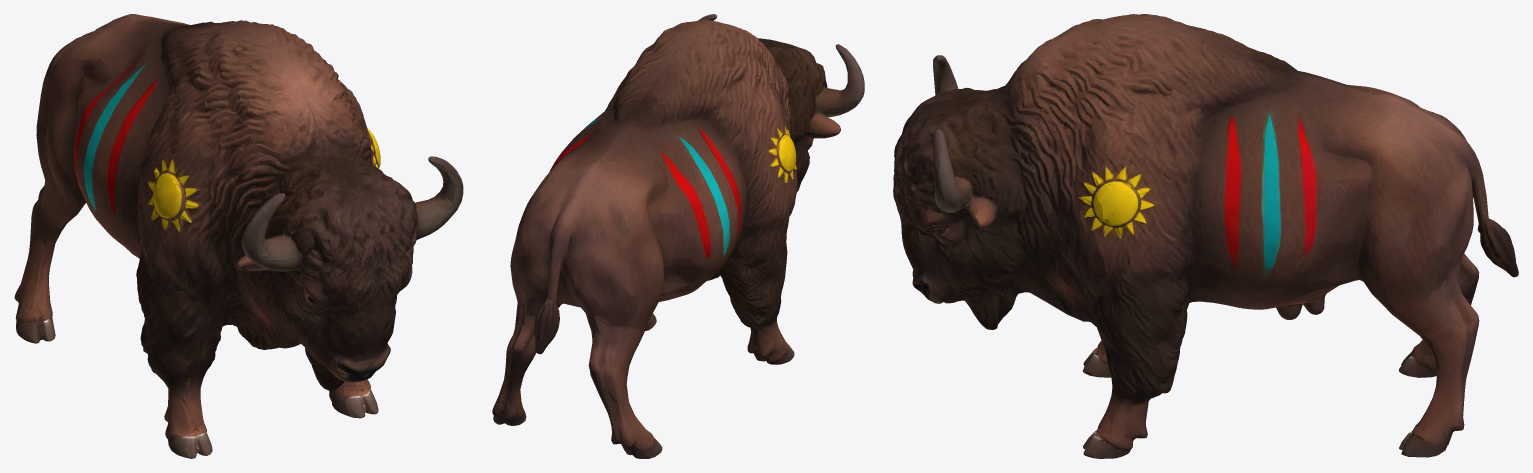
The picture shows the model from 3 angles, left to right: view 1: azimuth 30°, elevation 25°; view 2: azimuth 150°, elevation 25°; view 3: azimuth 270°, elevation 25°; orthographic projection. The views are drawn at different scales.
Size of the model in its own units: 0.7781 by 1.3 by 1.9.
1 material, 1 textured.
